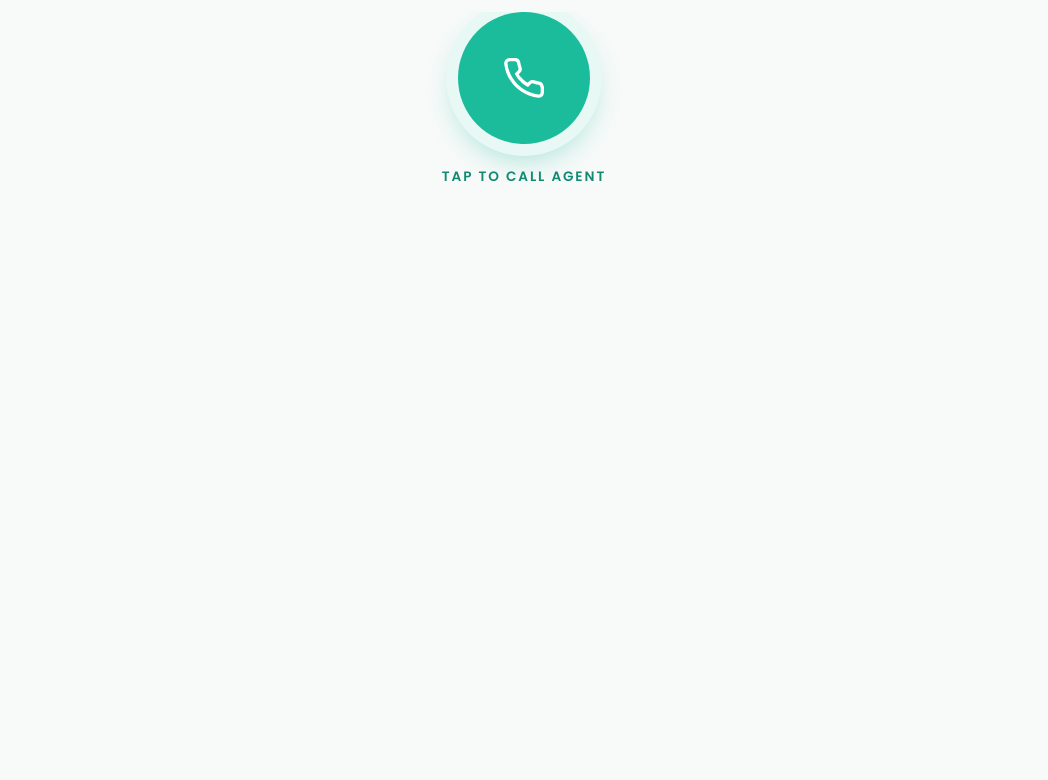
Test case: copying in the app › copies the whole call transcript with the summary after the call
The image size is (1048, 780).
Later steps or results of the test are not shown.
Click the button named "Call the MediLens agent" at (524, 78), box [458,12,590,144]
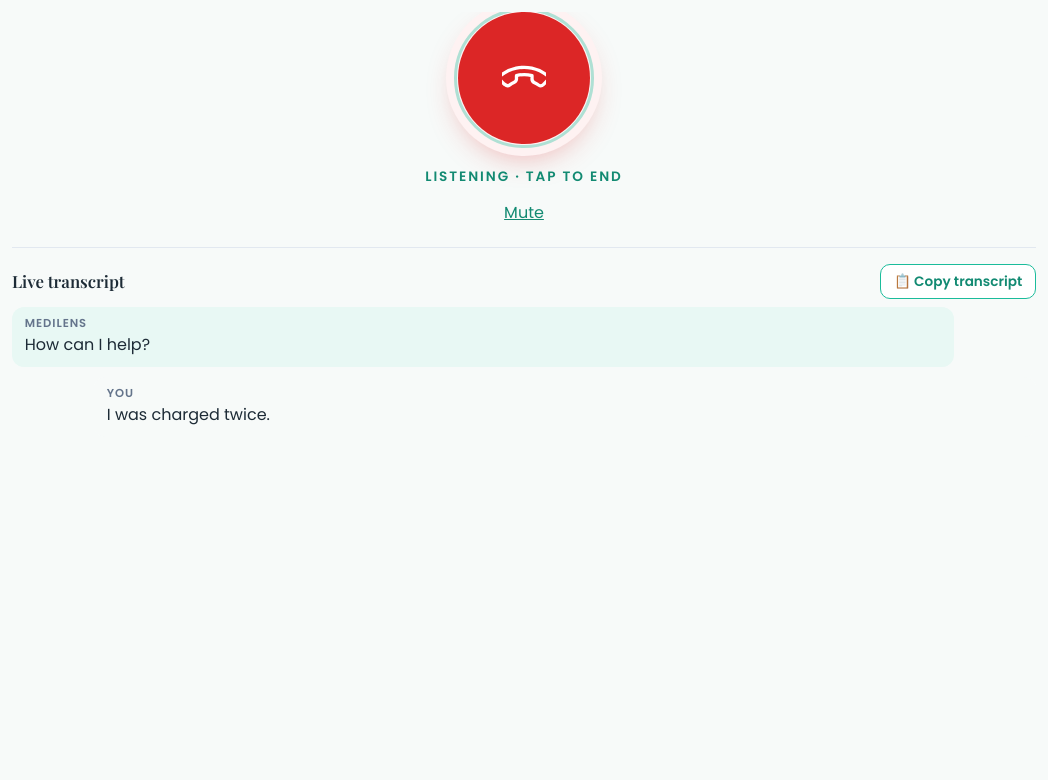
Click the button named "End call" at (524, 78), box [458,12,590,144]
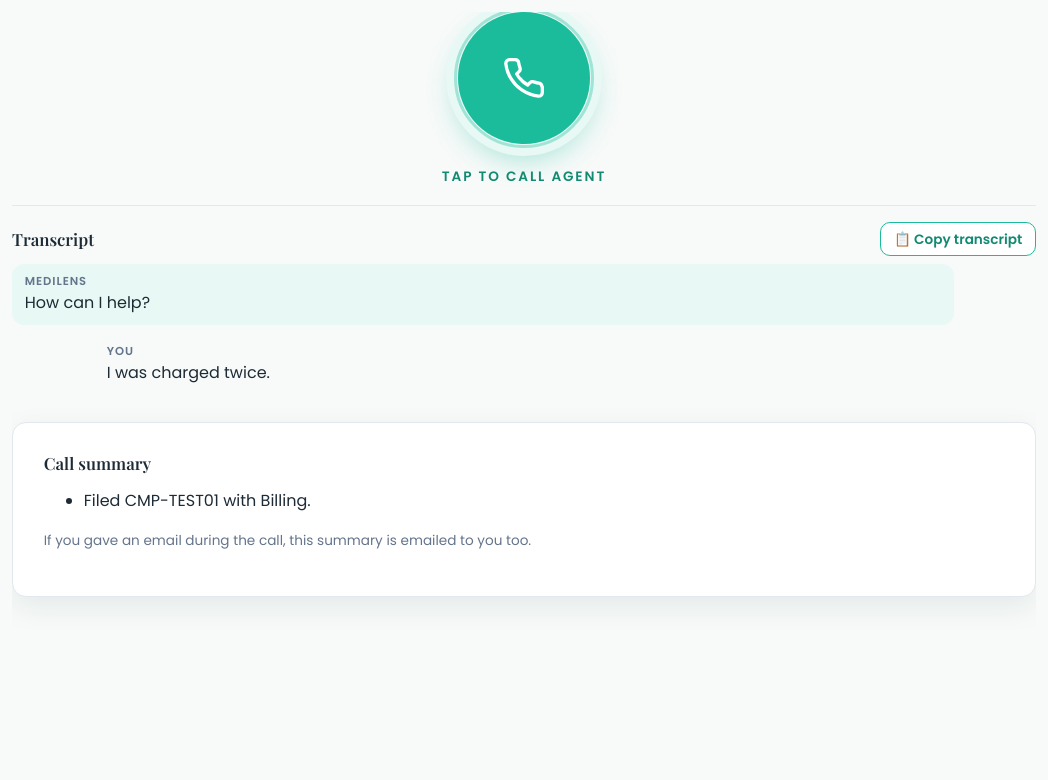
Now the list item "Filed CMP-TEST01 with Billing." is shown, box [84,489,311,512]
